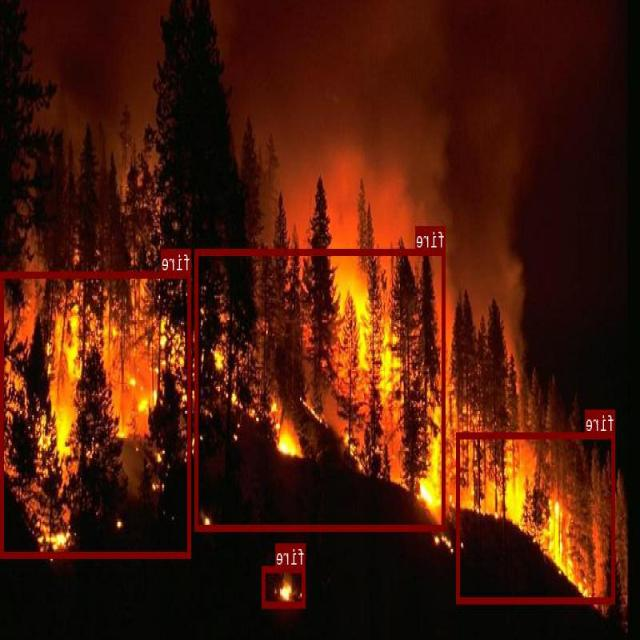fire: (196, 248, 446, 529), (2, 270, 192, 556), (457, 432, 615, 602), (262, 565, 306, 607)
